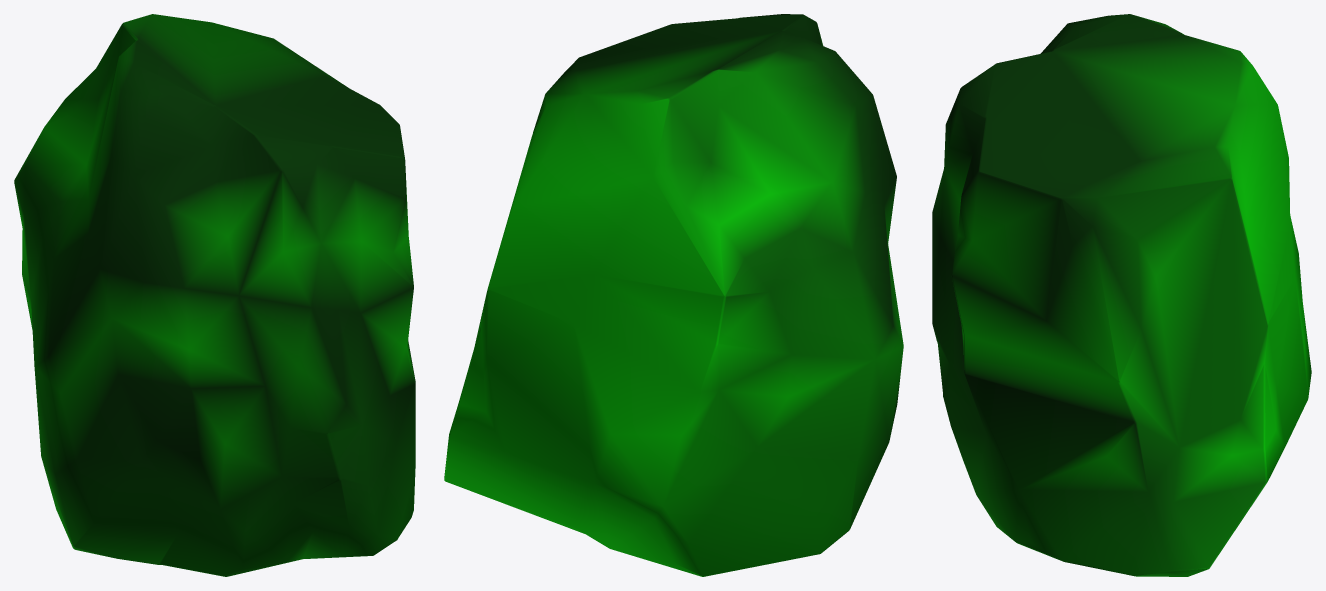
Rendered from boulder-e.glb.
3 renders of one model, left to right at view 1: azimuth 30°, elevation 25°; view 2: azimuth 150°, elevation 25°; view 3: azimuth 270°, elevation 25°, orthographic. The views are drawn at different scales.
Parts seen in each view (by area): view 1: boulder-e; view 2: boulder-e; view 3: boulder-e.
Boxes of the visible parts, box(x1,y1,x2,y2) form: boulder-e: box(14, 14, 415, 576); boulder-e: box(444, 14, 903, 576); boulder-e: box(932, 14, 1311, 576).
Size of the model in its own units: 2.22 by 2.6 by 2.03.
